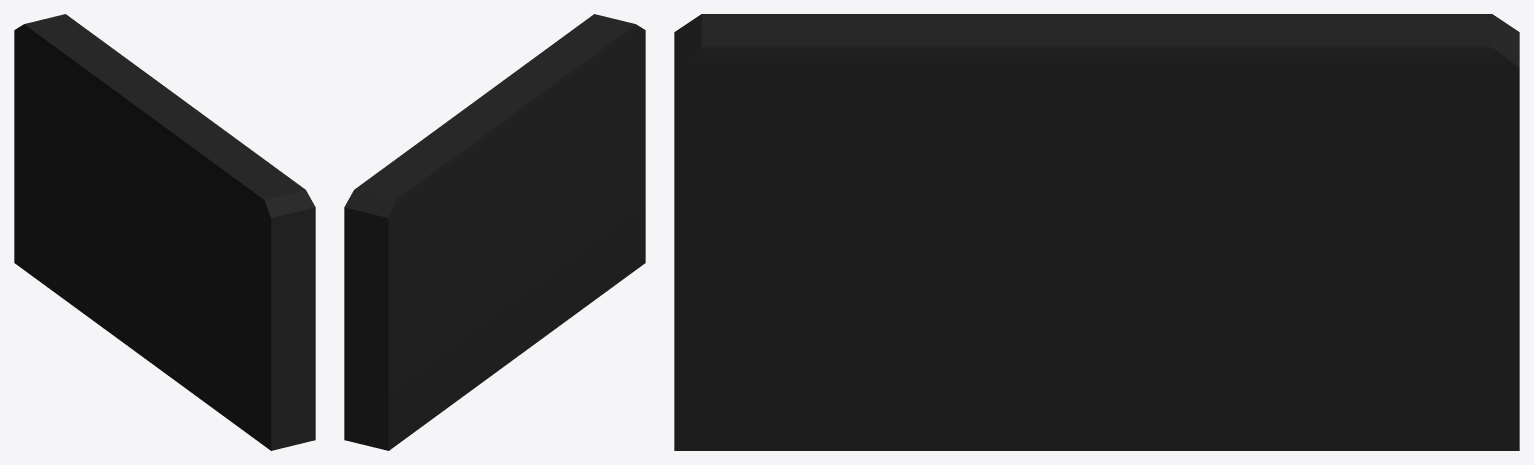
Rendered from WallPanel.fbx.
3 views of the same model, side by side, from view 1: azimuth 30°, elevation 25°; view 2: azimuth 150°, elevation 25°; view 3: azimuth 270°, elevation 25° (orthographic). The views are drawn at different scales.
Parts seen in each view (by area): view 1: WallPanel; view 2: WallPanel; view 3: WallPanel.
Part boxes in pixels (x1,y1,x2,y2): WallPanel: (14,14,315,450); WallPanel: (344,14,645,450); WallPanel: (674,14,1519,450).
Size of the model in its own units: 10 by 52.53 by 100.
Materials: 1 (1 with a texture image).
